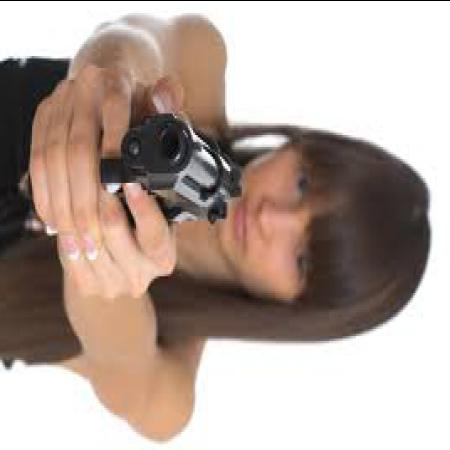Pistol: (18, 108, 246, 234)
